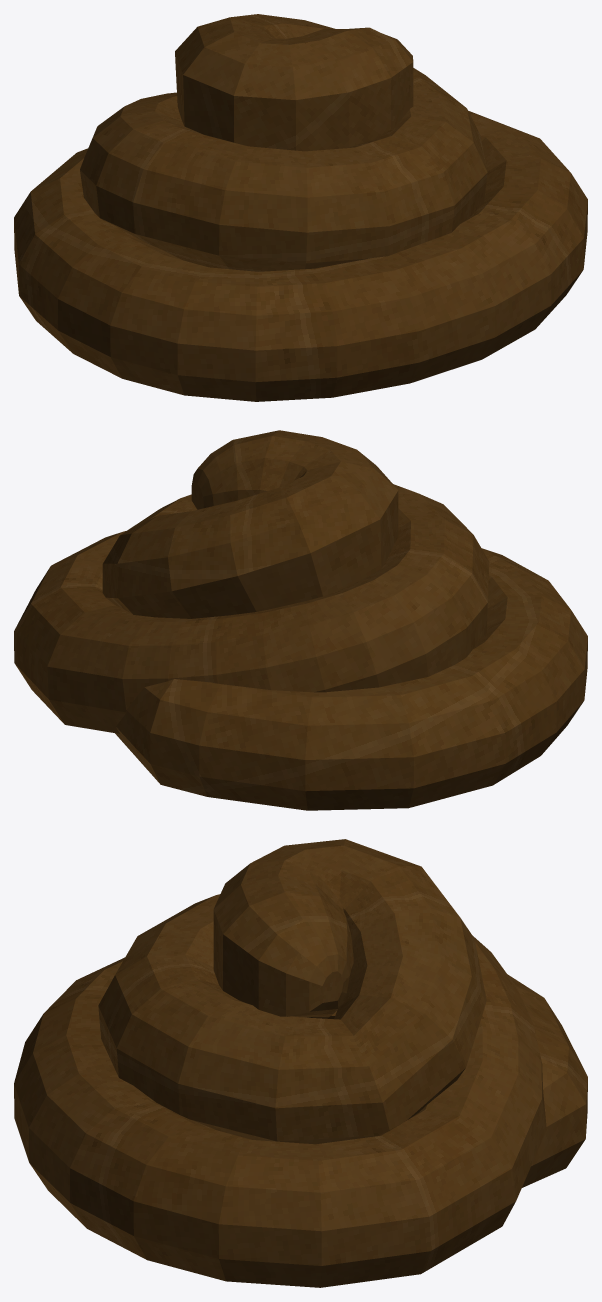
The model's file is Poop.fbx.
3 views of the same model, one above another, from view 1: azimuth 30°, elevation 25°; view 2: azimuth 150°, elevation 25°; view 3: azimuth 270°, elevation 25° (orthographic). The views are drawn at different scales.
Parts seen in each view (by area): view 1: BezierCurve; view 2: BezierCurve; view 3: BezierCurve.
Boxes of the visible parts, x1,y1,x2,y2 form: BezierCurve: (14,14,587,401); BezierCurve: (14,430,587,810); BezierCurve: (14,839,587,1287).
Size of the model in its own units: 263 by 133 by 231.
